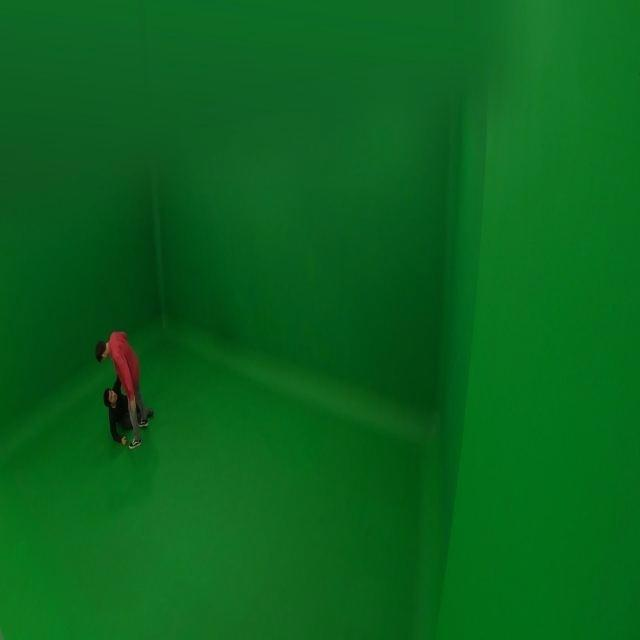fight: (93, 324, 153, 450)
